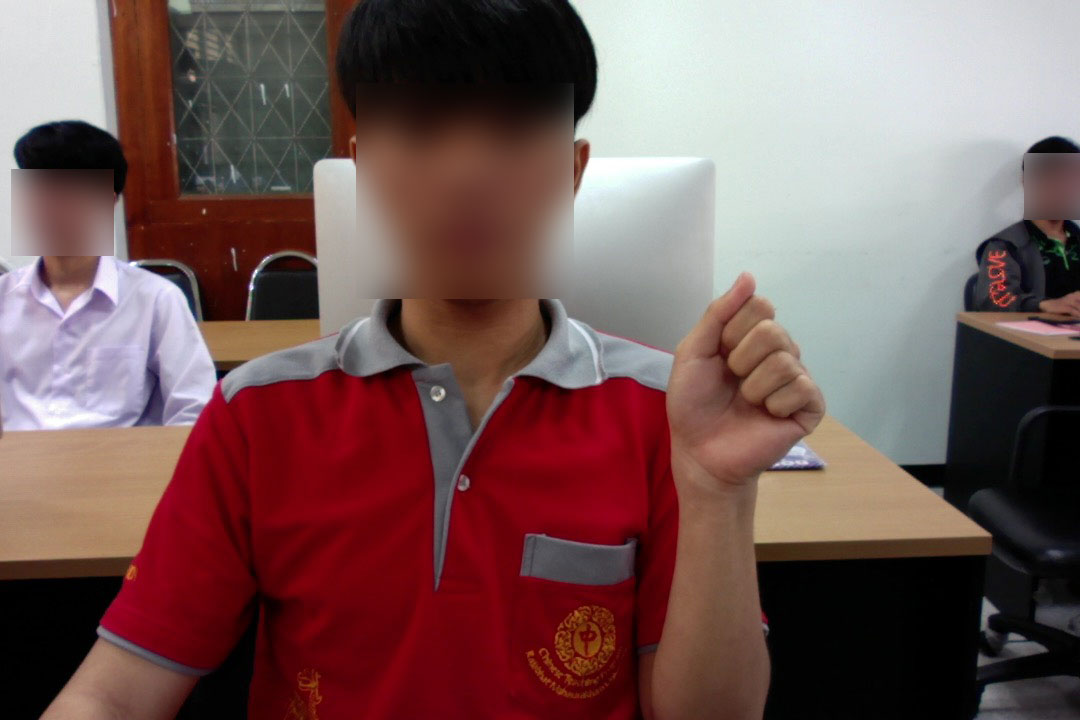or: (660, 266, 833, 494)
